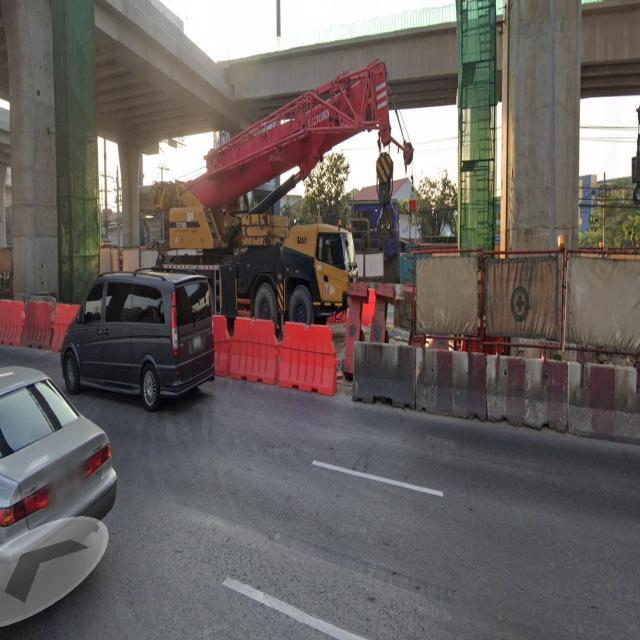fallen_object: (346, 319, 640, 453), (206, 319, 350, 395), (0, 292, 100, 375)
